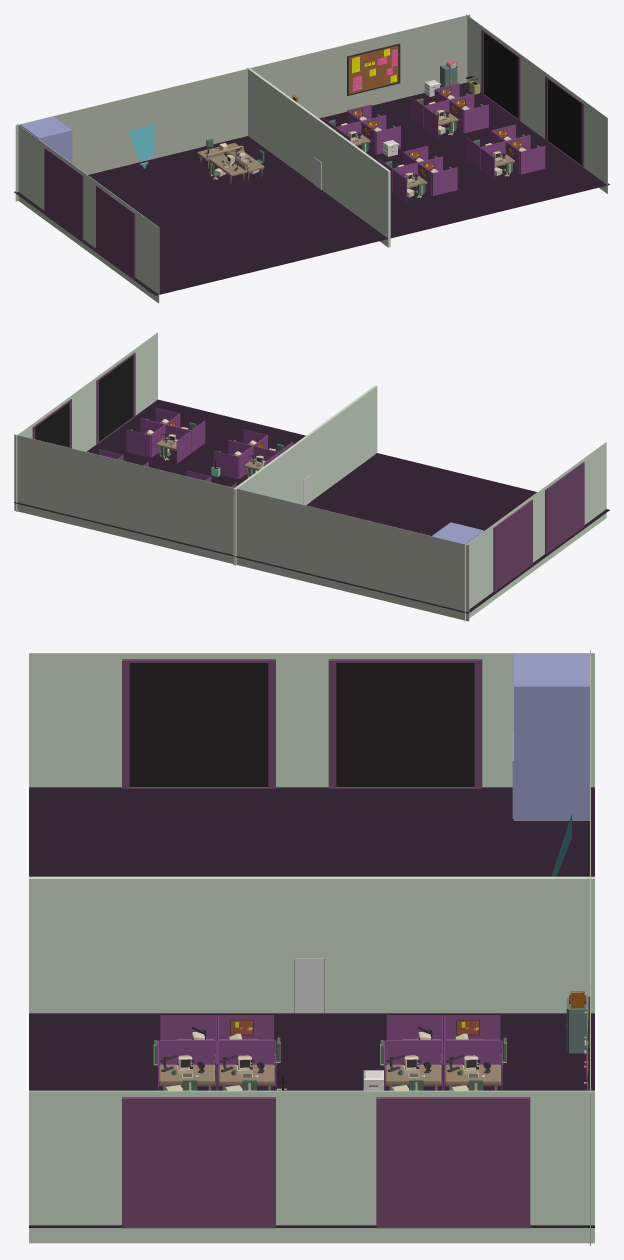
The model's file is Floor2_ContextII.fbx.
3 views of the same model, one above another, from view 1: azimuth 30°, elevation 25°; view 2: azimuth 150°, elevation 25°; view 3: azimuth 270°, elevation 25° (orthographic). The views are drawn at different scales.
Parts seen in each view (by area): view 1: Cube.050, Cube.049, Cube.065, Cube.048, Cube.068, Cube.055, Cube.062, Cube.096, Cube.097, Cubicle one object.030, Cube.067, Cubicle one object.004 (+13 smaller); view 2: Cube.049, Cube.050, Cube.065, Cube.048, Cube.068, Cube.055, Cube.062, Cube.097, Cube.096, Cubicle one object.007, Cubicle one object.021, Cubicle one object.029 (+3 smaller); view 3: Cube.065, Cube.050, Cube.068, Cube.048, Cube.096, Cube.097, Cube.062, Cube.055, Cube.067, Cubicle one object.025, Cubicle one object.029, Cubicle one object.028 (+7 smaller).
Boxes of the visible parts, x1=… form: Cube.050: x1=14, y1=82, x2=609, y2=295; Cube.049: x1=15, y1=14, x2=470, y2=201; Cube.065: x1=246, y1=67, x2=390, y2=247; Cube.048: x1=17, y1=124, x2=159, y2=303; Cube.068: x1=466, y1=14, x2=607, y2=193; Cube.055: x1=96, y1=185, x2=135, y2=277; Cube.062: x1=44, y1=147, x2=83, y2=239; Cube.096: x1=481, y1=29, x2=520, y2=121; Cube.097: x1=545, y1=76, x2=584, y2=168; Cubicle one object.030: x1=347, y1=43, x2=400, y2=95; Cube.067: x1=20, y1=116, x2=72, y2=163; Cubicle one object.004: x1=480, y1=141, x2=519, y2=180; Cube.049: x1=14, y1=434, x2=469, y2=621; Cube.050: x1=14, y1=399, x2=609, y2=613; Cube.065: x1=233, y1=385, x2=377, y2=565; Cube.048: x1=464, y1=442, x2=606, y2=621; Cube.068: x1=16, y1=332, x2=157, y2=511; Cube.055: x1=545, y1=462, x2=584, y2=554; Cube.062: x1=493, y1=500, x2=532, y2=592; Cube.097: x1=96, y1=352, x2=135, y2=444; Cube.096: x1=32, y1=399, x2=71, y2=448; Cubicle one object.007: x1=151, y1=424, x2=190, y2=463; Cubicle one object.021: x1=126, y1=418, x2=164, y2=457; Cubicle one object.029: x1=213, y1=440, x2=252, y2=479; Cube.065: x1=29, y1=876, x2=594, y2=1013; Cube.050: x1=29, y1=787, x2=594, y2=1227; Cube.068: x1=29, y1=1090, x2=594, y2=1243; Cube.048: x1=29, y1=653, x2=594, y2=787; Cube.096: x1=376, y1=1097, x2=530, y2=1228; Cube.097: x1=122, y1=1097, x2=275, y2=1228; Cube.062: x1=328, y1=659, x2=482, y2=788; Cube.055: x1=122, y1=659, x2=275, y2=788; Cube.067: x1=512, y1=654, x2=589, y2=820; Cubicle one object.025: x1=443, y1=1040, x2=502, y2=1090; Cubicle one object.029: x1=217, y1=1040, x2=276, y2=1090; Cubicle one object.028: x1=158, y1=1040, x2=216, y2=1090.
Bounding box in the file's own units: 1365 × 218 × 735.
